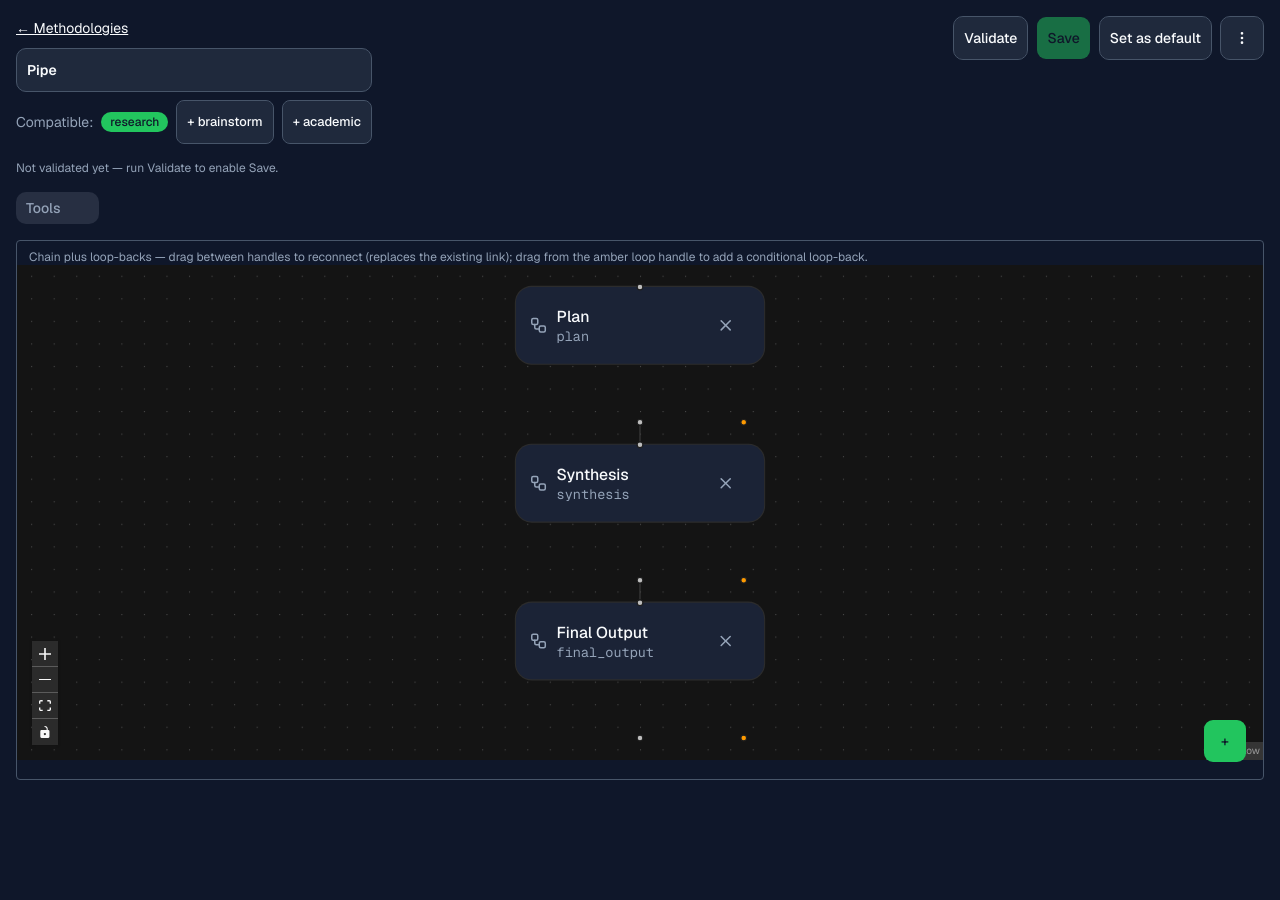
Test: BuilderPage roles and code › refuses to place a model-less role
The image size is (1280, 900).
Expected: the element with test id "stage-card-plan" is shown, [516, 287, 764, 364]
Click the button named "Add node": x=1225, y=741 [1203, 719, 1247, 763]
(page scrolled)
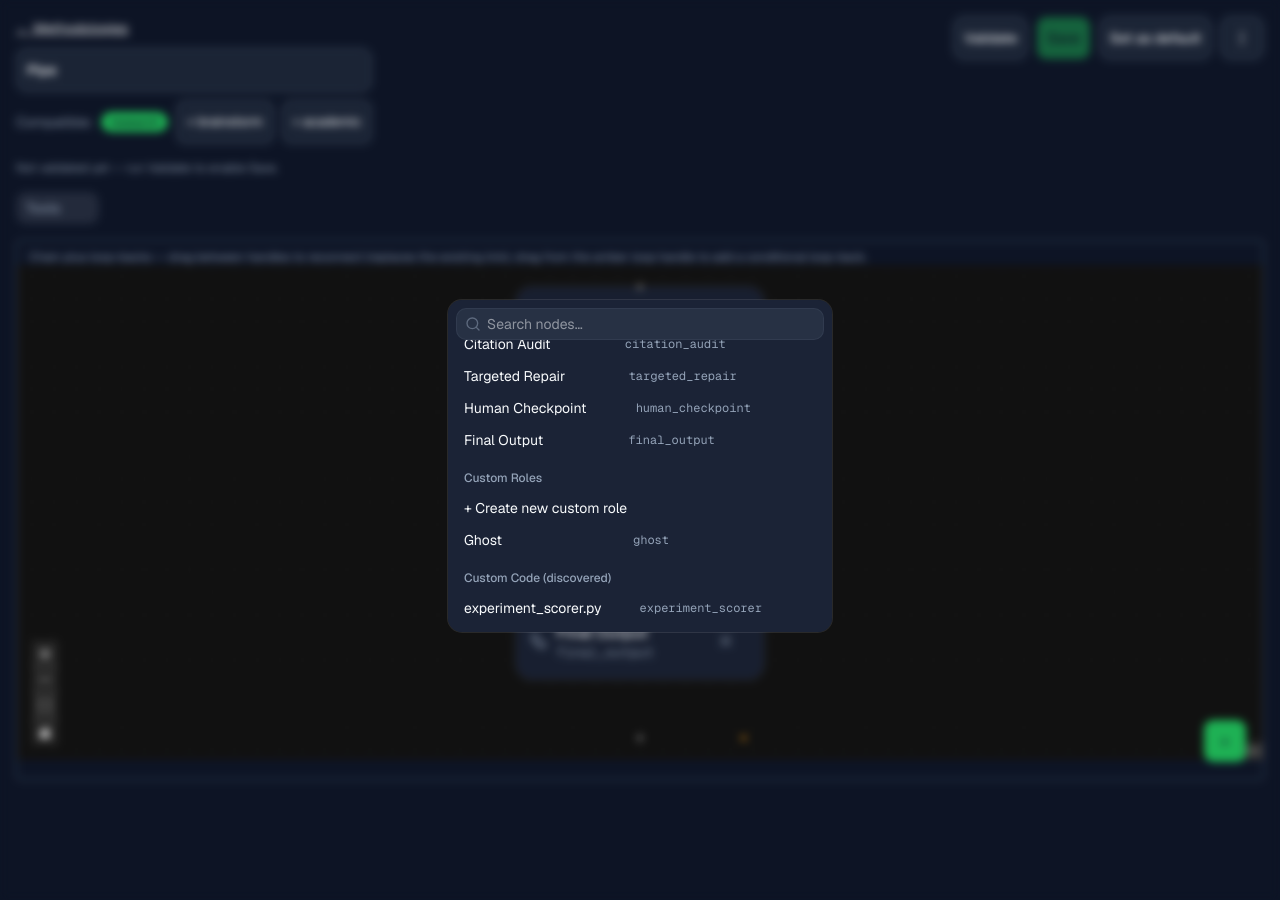
Click the option "Ghost ghost": x=483, y=540 [464, 531, 669, 549]
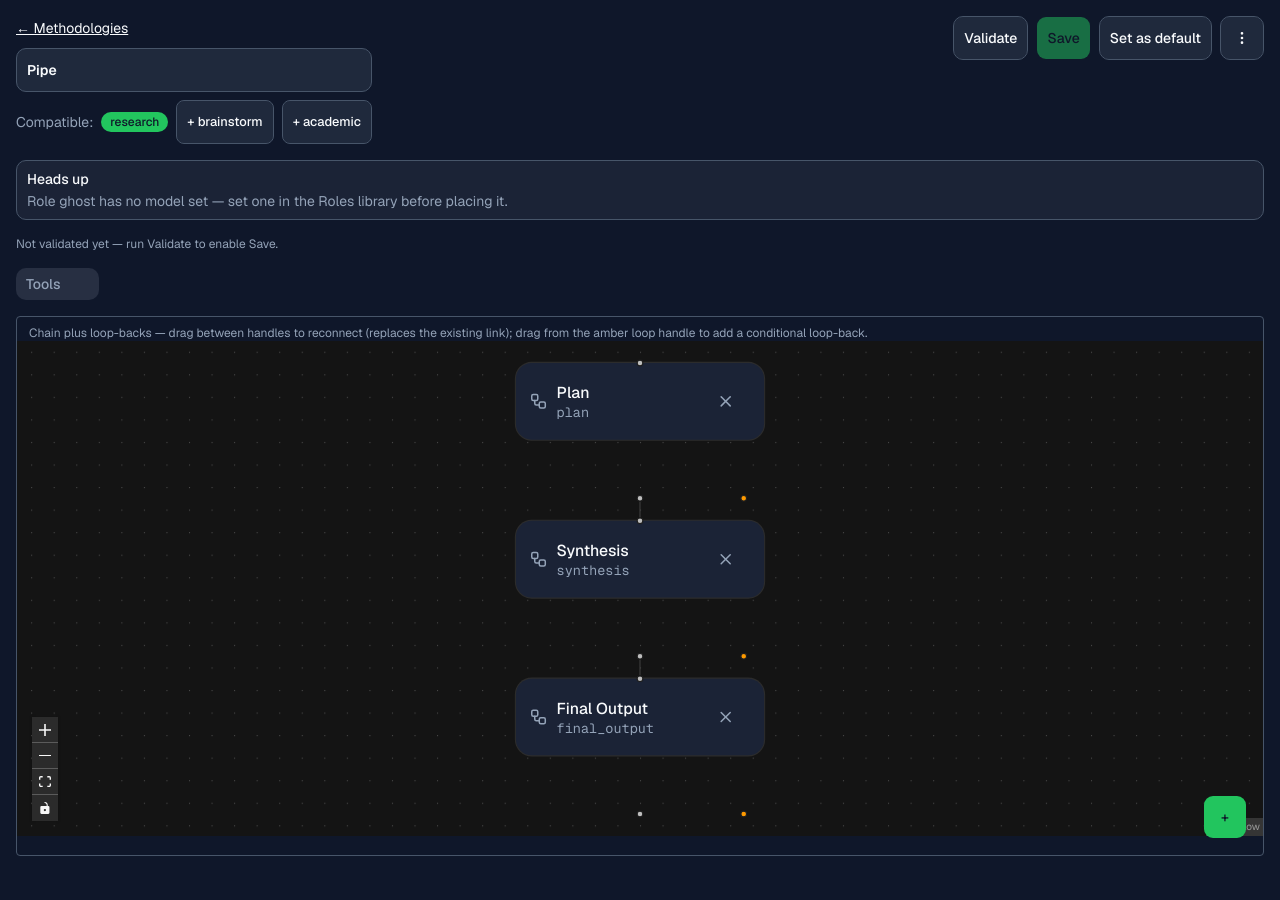
Result: the text "has no model set" is shown at [27, 192, 508, 210]
